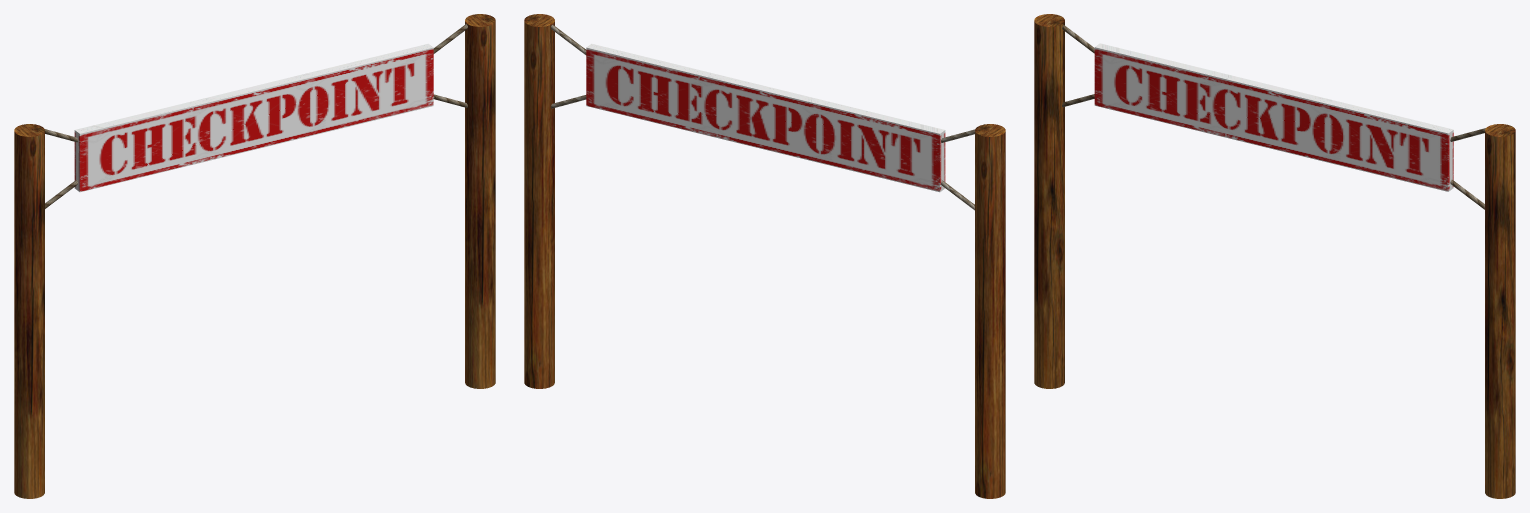
File: checkpoint.fbx
3 views of the same model, side by side, from view 1: azimuth 30°, elevation 25°; view 2: azimuth 150°, elevation 25°; view 3: azimuth 330°, elevation 25° (orthographic).
Parts seen in each view (by area): view 1: pCube1, pCylinder8, pCylinder7; view 2: pCube1, pCylinder8, pCylinder7; view 3: pCube1, pCylinder8, pCylinder7.
Part boxes in pixels (<box>): pCube1: <box>74,43,433,192</box>; pCylinder8: <box>14,14,495,498</box>; pCylinder7: <box>44,24,467,208</box>; pCube1: <box>586,43,945,192</box>; pCylinder8: <box>524,14,1005,498</box>; pCylinder7: <box>551,24,975,210</box>; pCube1: <box>1094,43,1453,191</box>; pCylinder8: <box>1034,14,1515,498</box>; pCylinder7: <box>1062,24,1485,209</box>.
Bounding box in the file's own units: 11.11 × 8.05 × 0.6217.
Materials: 3 (3 with a texture image).
